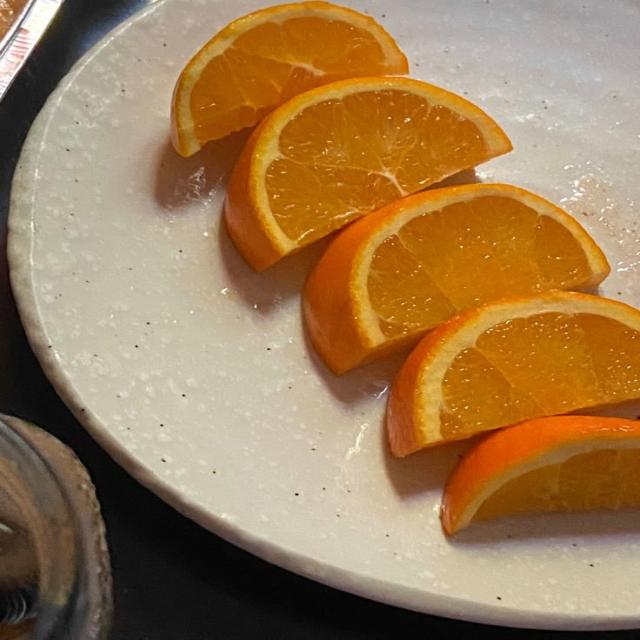orange: (303, 184, 609, 373), (226, 77, 511, 270), (387, 291, 639, 456), (172, 2, 407, 155), (441, 416, 639, 534)
